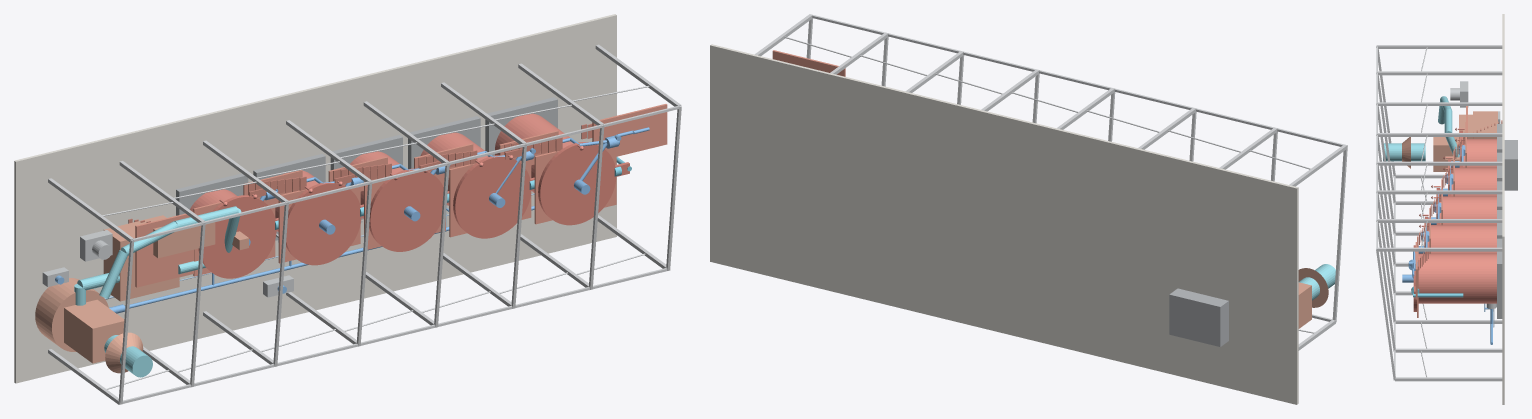
File: adsorption_circuit_concept_v5.glb
3 views of the same model, side by side, from view 1: azimuth 30°, elevation 25°; view 2: azimuth 150°, elevation 25°; view 3: azimuth 270°, elevation 25° (orthographic). The views are drawn at different scales.
Parts seen in each view (by area): view 1: FDN_MAIN_SLAB, COL_140_CC_003_CHANNEL, COL_140_CC_004_CHANNEL, COL_140_CC_002_CHANNEL, COL_140_CC_001_CHANNEL, COL_140_CC_005_CHANNEL, AUX_CH_140_CH_001_BASE, PLAT_L5_RIGHT_FEED, PLAT_L1_LEFT_SERVICE, AUX_WT_140_WT_001, AUX_BX_LEFT, FDN_140_CC_001 (+30 smaller); view 2: FDN_MAIN_SLAB, FDN_LEFT_PIT, STR_FRAME_AXIS_01_ROOF, PLAT_L5_RIGHT_FEED, AUX_CH_140_CH_001_BASE; view 3: COL_140_CC_001_BODY, COL_140_CC_002_BODY, COL_140_CC_003_BODY, FDN_MAIN_SLAB, COL_140_CC_004_BODY, COL_140_CC_005_BODY, FDN_LEFT_PIT, STR_FRAME_AXIS_08_N_COL, STR_FRAME_AXIS_05_N_COL, STR_FRAME_AXIS_06_N_COL, STR_FRAME_AXIS_02_N_COL, AUX_BX_LEFT (+31 smaller).
Boxes of the visible parts, <box> form: FDN_MAIN_SLAB: <box>14,14,616,383</box>; COL_140_CC_003_CHANNEL: <box>369,168,443,251</box>; COL_140_CC_004_CHANNEL: <box>286,182,361,265</box>; COL_140_CC_002_CHANNEL: <box>453,155,531,238</box>; COL_140_CC_001_CHANNEL: <box>538,142,616,225</box>; COL_140_CC_005_CHANNEL: <box>198,195,276,278</box>; AUX_CH_140_CH_001_BASE: <box>64,299,124,363</box>; PLAT_L5_RIGHT_FEED: <box>592,104,667,157</box>; PLAT_L1_LEFT_SERVICE: <box>135,212,193,287</box>; AUX_WT_140_WT_001: <box>35,278,108,351</box>; AUX_BX_LEFT: <box>103,215,179,301</box>; FDN_140_CC_001: <box>485,97,557,155</box>; FDN_MAIN_SLAB: <box>710,44,1298,404</box>; FDN_LEFT_PIT: <box>1169,288,1228,346</box>; STR_FRAME_AXIS_01_ROOF: <box>1332,149,1347,322</box>; PLAT_L5_RIGHT_FEED: <box>772,50,845,76</box>; AUX_CH_140_CH_001_BASE: <box>1298,282,1311,328</box>; COL_140_CC_001_BODY: <box>1418,253,1496,303</box>; COL_140_CC_002_BODY: <box>1428,225,1496,253</box>; COL_140_CC_003_BODY: <box>1440,196,1496,224</box>; FDN_MAIN_SLAB: <box>1502,14,1504,404</box>; COL_140_CC_004_BODY: <box>1451,167,1496,196</box>; COL_140_CC_005_BODY: <box>1463,139,1496,167</box>; FDN_LEFT_PIT: <box>1504,140,1517,190</box>; STR_FRAME_AXIS_08_N_COL: <box>1377,247,1502,251</box>; STR_FRAME_AXIS_05_N_COL: <box>1377,161,1502,165</box>; STR_FRAME_AXIS_06_N_COL: <box>1377,190,1502,194</box>; STR_FRAME_AXIS_02_N_COL: <box>1377,71,1502,75</box>; AUX_BX_LEFT: <box>1473,111,1497,138</box>.
Size of the model in its own units: 50.5 by 17.8 by 13.61.
